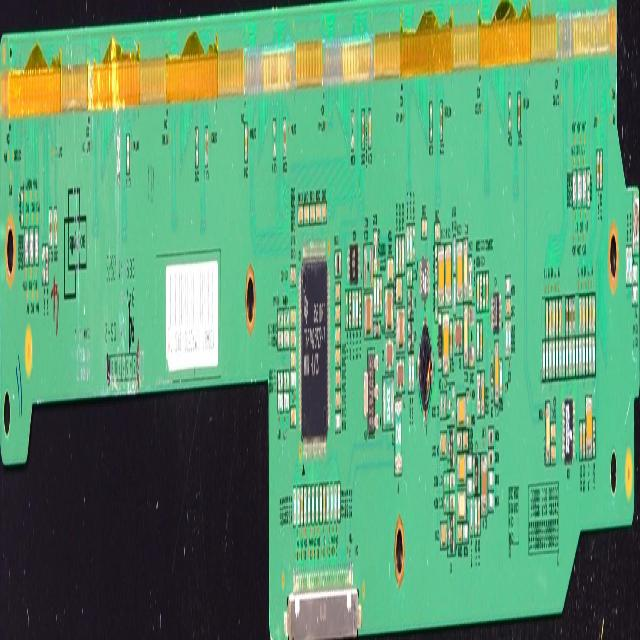Capacitor Jumper: (444, 244, 452, 306), (437, 246, 445, 308), (363, 243, 373, 292), (480, 453, 487, 519), (585, 397, 592, 462), (363, 293, 373, 338), (442, 313, 449, 377), (456, 240, 463, 300), (384, 288, 394, 330), (396, 308, 405, 350), (463, 239, 468, 305), (456, 395, 466, 428), (545, 401, 550, 466), (456, 455, 466, 486), (457, 488, 466, 522), (463, 308, 468, 366), (494, 341, 498, 411), (386, 257, 394, 284), (439, 433, 446, 461), (440, 522, 447, 550), (480, 370, 484, 417), (439, 99, 443, 143), (272, 118, 276, 162), (204, 125, 208, 168), (126, 135, 130, 178), (322, 483, 326, 526), (440, 392, 446, 420), (361, 109, 365, 151), (548, 300, 552, 341), (517, 92, 521, 133), (398, 236, 402, 276), (588, 295, 592, 335), (578, 296, 582, 336), (350, 111, 354, 151), (396, 278, 402, 304), (334, 391, 341, 413), (558, 299, 562, 337), (320, 203, 327, 224), (412, 224, 416, 260), (283, 308, 289, 332), (334, 347, 341, 367), (421, 217, 427, 240), (290, 265, 296, 288), (334, 281, 340, 304), (457, 521, 463, 544), (508, 92, 511, 137), (596, 148, 599, 192), (334, 325, 340, 347), (429, 102, 432, 145), (599, 148, 602, 190), (309, 203, 315, 224), (303, 204, 309, 225), (298, 204, 304, 225), (49, 208, 52, 250), (434, 223, 440, 244), (555, 297, 558, 339), (277, 309, 283, 330), (290, 351, 296, 372), (277, 370, 283, 391), (283, 371, 289, 392), (579, 421, 582, 463), (300, 486, 303, 528), (368, 110, 371, 152), (54, 208, 57, 249), (283, 118, 286, 159), (195, 127, 198, 167), (315, 204, 321, 224), (409, 224, 412, 264), (406, 224, 409, 264), (476, 273, 479, 313), (505, 298, 511, 318), (334, 304, 340, 324), (290, 308, 296, 328), (552, 300, 555, 340), (582, 420, 585, 460), (550, 445, 556, 465), (245, 123, 248, 163), (379, 277, 382, 316), (477, 497, 480, 536), (585, 296, 588, 334), (545, 300, 548, 338), (334, 369, 340, 388), (290, 408, 296, 427), (592, 295, 595, 332), (582, 297, 585, 333), (290, 331, 296, 349), (550, 424, 556, 442), (486, 271, 488, 312), (450, 320, 452, 360), (480, 320, 482, 360)
IC: (564, 400, 572, 462), (368, 354, 374, 434), (350, 242, 358, 284), (422, 256, 428, 298), (493, 292, 499, 333), (474, 453, 478, 492)
Resistor Jumper: (476, 373, 481, 419), (452, 233, 456, 276), (407, 353, 411, 395), (307, 484, 311, 526), (473, 496, 477, 538), (395, 236, 399, 277), (351, 288, 355, 329), (358, 289, 362, 330), (482, 271, 486, 311), (434, 283, 438, 323), (588, 336, 592, 376), (578, 336, 582, 376), (333, 482, 337, 522), (348, 290, 352, 329), (585, 337, 589, 376), (568, 338, 572, 377), (296, 488, 300, 527), (548, 340, 552, 378), (292, 485, 296, 523), (434, 245, 438, 282), (558, 341, 562, 378), (545, 342, 549, 378), (277, 329, 283, 351), (488, 469, 494, 491), (345, 290, 348, 333), (592, 335, 595, 377), (499, 360, 502, 402), (330, 482, 333, 524), (315, 484, 318, 526), (411, 352, 414, 393), (337, 481, 340, 522), (470, 499, 473, 540), (45, 245, 48, 285), (42, 245, 45, 285), (376, 277, 379, 317), (373, 277, 376, 317), (355, 290, 358, 330), (562, 338, 565, 378), (552, 338, 555, 378), (542, 341, 545, 381), (277, 392, 283, 412), (443, 472, 449, 492), (449, 492, 455, 512), (326, 482, 329, 522), (443, 494, 449, 514), (476, 321, 479, 360), (575, 337, 578, 376), (565, 338, 568, 377), (632, 287, 638, 306), (453, 278, 456, 316), (283, 328, 289, 347), (505, 321, 508, 359), (449, 471, 455, 490), (488, 493, 494, 512), (319, 484, 322, 522), (572, 340, 575, 377), (467, 454, 472, 476), (467, 476, 472, 498), (283, 392, 289, 410), (334, 414, 340, 432), (488, 451, 494, 469), (407, 267, 412, 288), (505, 277, 510, 297), (488, 427, 493, 447), (290, 373, 296, 389), (632, 264, 637, 283), (626, 245, 628, 285), (629, 245, 631, 285), (480, 272, 482, 312), (304, 486, 306, 526), (556, 340, 558, 379), (402, 236, 404, 274), (508, 321, 510, 359), (582, 337, 584, 375), (312, 486, 314, 524)
